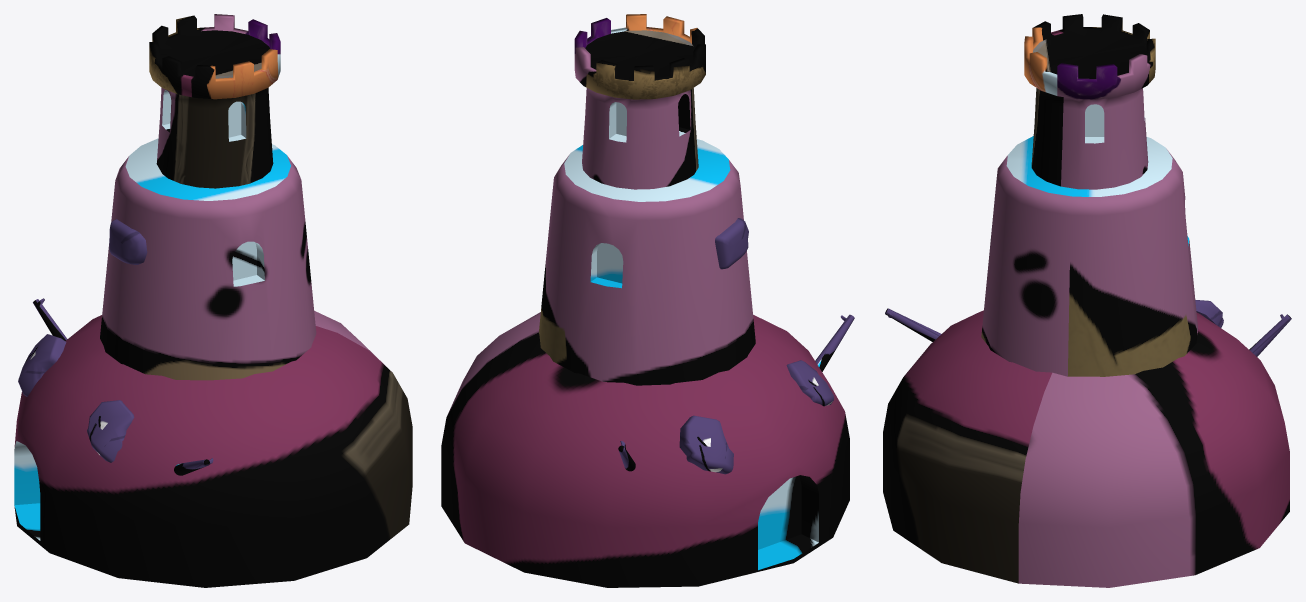
File: Castillo_7.fbx
The picture shows the model from 3 angles, left to right: view 1: azimuth 30°, elevation 25°; view 2: azimuth 150°, elevation 25°; view 3: azimuth 270°, elevation 25°; orthographic projection.
Visible parts, largest first — view 1: pCylinder60; view 2: pCylinder60; view 3: pCylinder60.
Boxes of the visible parts, x1,y1,x2,y2 form: pCylinder60: [14, 14, 412, 587]; pCylinder60: [441, 14, 854, 587]; pCylinder60: [883, 14, 1291, 587].
Size of the model in its own units: 117 by 147 by 118.
